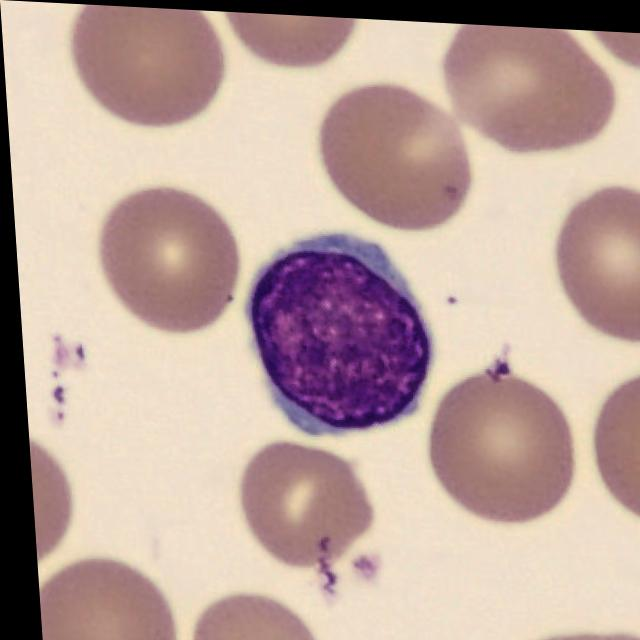Linfocito: (245, 230, 427, 430)
